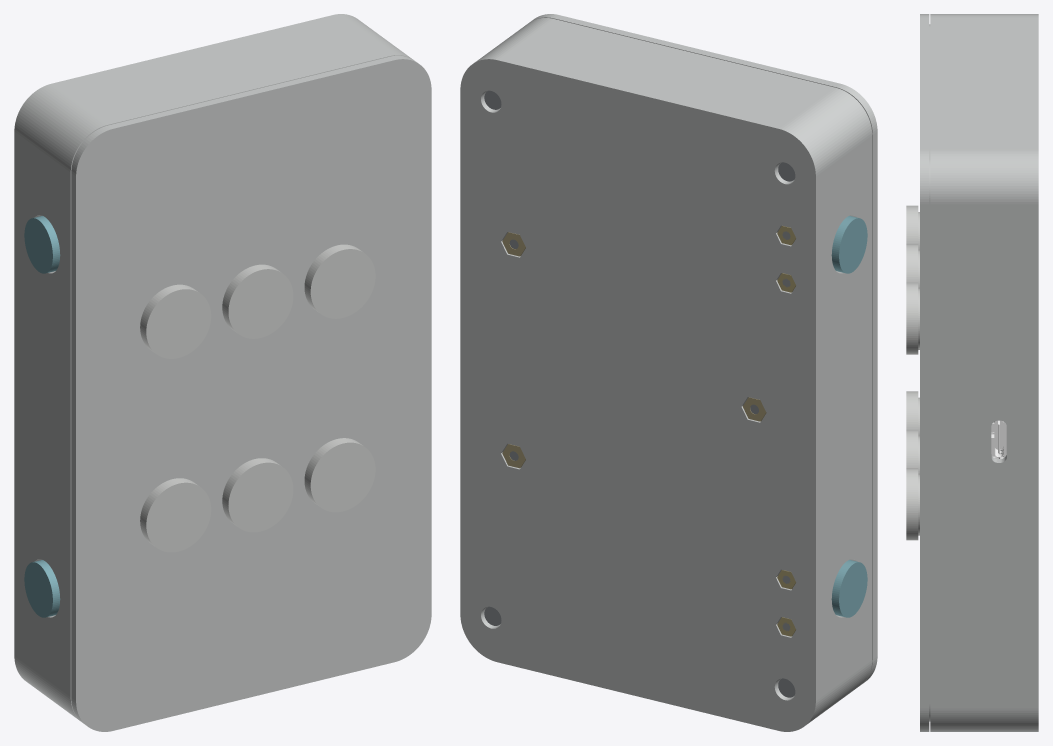
File: assembly-S04.glb
3 renders of one model, left to right at view 1: azimuth 30°, elevation 25°; view 2: azimuth 150°, elevation 25°; view 3: azimuth 270°, elevation 25°, orthographic. The views are drawn at different scales.
Visible parts, largest first — view 1: lid, base, cap_1, cap_5, cap_2, cap_3, cap_6, cap_4, side_cap_0, side_cap_1; view 2: base, lid, side_cap_0, side_cap_1; view 3: base, lid, cap_3, cap_6, cap_1, cap_2, cap_4, cap_5, STEP_part_672.
Boxes of the visible parts, box(x1,y1,x2,y2) form: lid: box(71, 55, 431, 731); base: box(14, 14, 411, 721); cap_1: box(140, 478, 211, 552); cap_5: box(222, 264, 293, 338); cap_2: box(222, 458, 293, 532); cap_3: box(304, 438, 375, 512); cap_6: box(304, 244, 375, 318); cap_4: box(140, 284, 211, 358); side_cap_0: box(24, 560, 60, 617); side_cap_1: box(24, 215, 60, 273); base: box(460, 18, 872, 731); lid: box(532, 14, 877, 683); side_cap_0: box(831, 560, 867, 617); side_cap_1: box(831, 215, 867, 273); base: box(930, 14, 1038, 731); lid: box(920, 14, 930, 731); cap_3: box(906, 468, 919, 540); cap_6: box(906, 282, 919, 354); cap_1: box(906, 391, 919, 436); cap_2: box(906, 430, 919, 474); cap_4: box(906, 205, 919, 250); cap_5: box(906, 244, 919, 288); STEP_part_672: box(994, 420, 1003, 457).
Size of the model in its own units: 0.0881 by 0.14 by 0.029.
